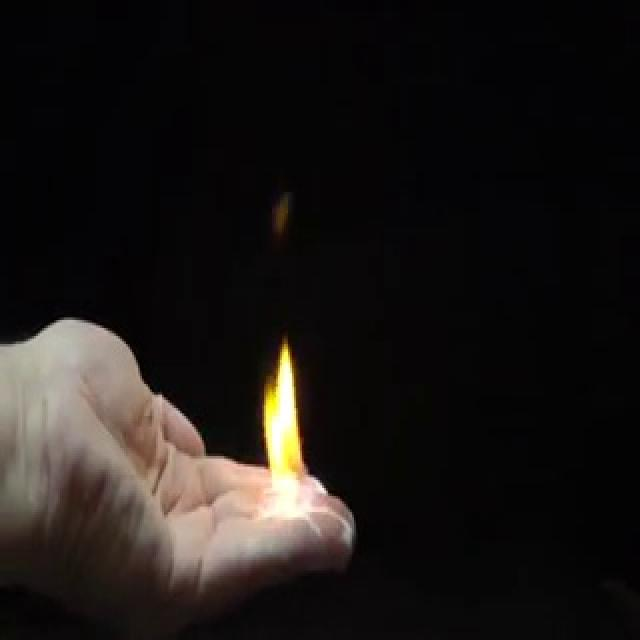fire: (261, 336, 316, 535)
